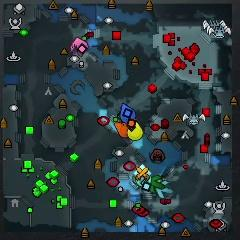Other: (133, 163, 152, 181)
p1: (119, 102, 137, 124)
p2: (136, 176, 152, 187)
p4: (127, 121, 144, 140)
p5: (114, 121, 129, 137)
x1: (70, 38, 88, 57)
x3: (156, 181, 173, 197)
x4: (148, 175, 164, 193)
